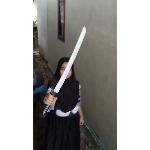Pedang: (38, 24, 92, 120)
